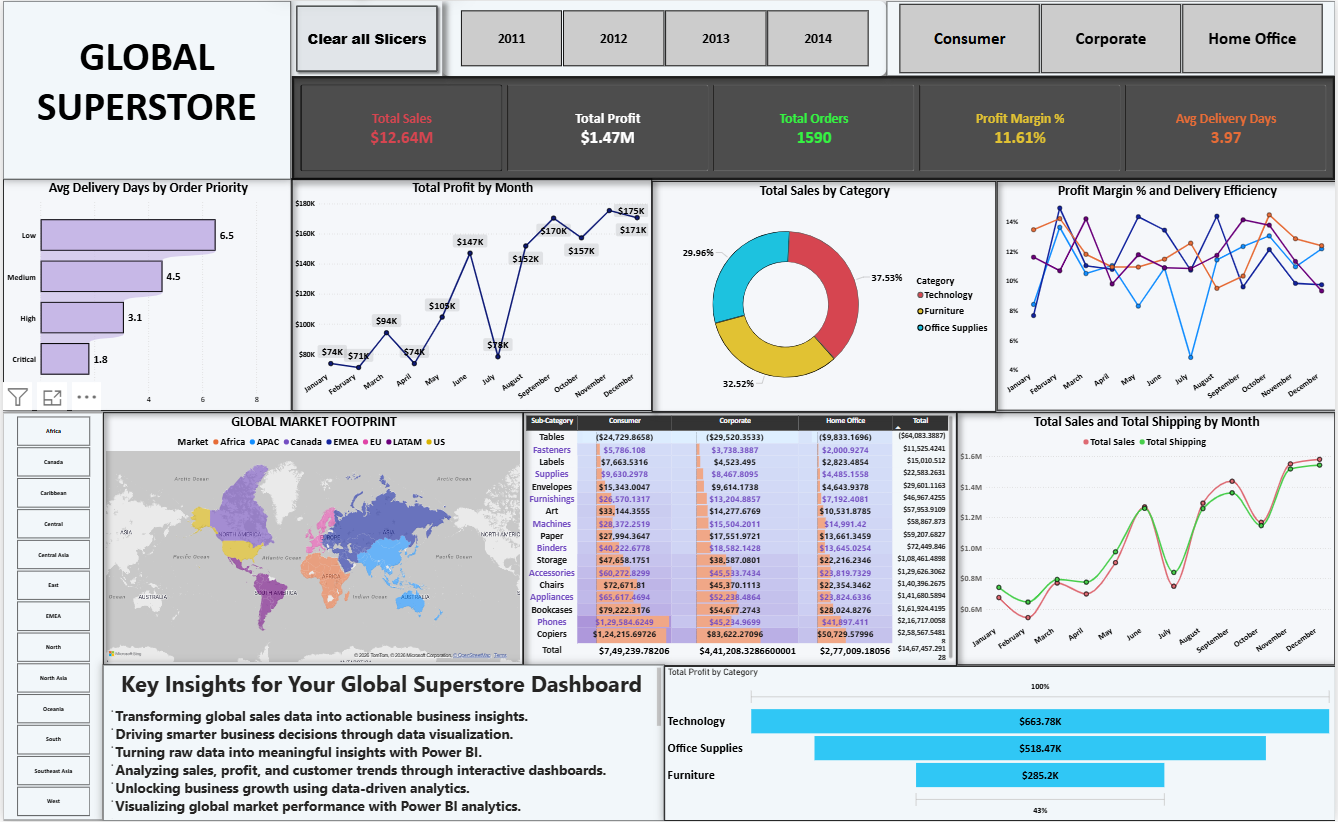

The dashboard page shown, as its layout file describes it:
{"tool":"powerbi","page":{"name":"Page 1","canvas":[2400,1600],"ordinal":0},"visuals":[{"type":"cardVisual","fields":{"Data":["Global_Superstore2 - Global_Superstore2.Total Sales","Global_Superstore2 - Global_Superstore2.Total Profit","Global_Superstore2 - Global_Superstore2.Total Orders","Global_Superstore2 - Global_Superstore2.Profit Margin %","Global_Superstore2 - Global_Superstore2.Avg Delivery Days"]},"box":[438.6,185.7,1961.4,192.9],"z":0},{"type":"slicer","fields":{"Values":["Global_Superstore2 - Global_Superstore2.Order Date.Variation.Date Hierarchy.Year"]},"box":[444,0,1956,186],"z":1000},{"type":"donutChart","fields":{"Category":["Global_Superstore2 - Global_Superstore2.Category"],"Y":["Global_Superstore2 - Global_Superstore2.Total Sales"]},"box":[436.2,378.7,678.7,502.1],"z":2000},{"type":"lineChart","fields":{"Category":["Global_Superstore2 - Global_Superstore2.Order Date.Variation.Date Hierarchy.Month"],"Y":["Global_Superstore2 - Global_Superstore2.Total Sales"],"Series":["Global_Superstore2 - Global_Superstore2.Order Date.Variation.Date Hierarchy.Year"]},"box":[438,886,670,502],"z":3000},{"type":"pivotTable","fields":{"Rows":["Global_Superstore2 - Global_Superstore2.Order Date.Variation.Date Hierarchy.Month"],"Columns":["Global_Superstore2 - Global_Superstore2.Category"],"Values":["Global_Superstore2 - Global_Superstore2.Total Sales"]},"box":[1781.4,380,618.6,501.4],"z":4000},{"type":"lineChart","fields":{"Y2":["Global_Superstore2 - Global_Superstore2.Total Profit"],"Y":["Global_Superstore2 - Global_Superstore2.Total Sales"],"Category":["Global_Superstore2 - Global_Superstore2.Order Date.Variation.Date Hierarchy.Month"]},"box":[1112,379.2,670,502.5],"z":5000},{"type":"funnel","fields":{"Category":["Global_Superstore2 - Global_Superstore2.Segment"],"Y":["Count(Global_Superstore2 - Global_Superstore2.Order ID)"]},"box":[1108,886,670,502],"z":6000},{"type":"barChart","fields":{"Category":["Global_Superstore2 - Global_Superstore2.Order Priority"],"Y":["Global_Superstore2 - Global_Superstore2.Avg Delivery Days"]},"box":[1782,886,618,502],"z":7000},{"type":"slicer","fields":{"Values":["Global_Superstore2 - Global_Superstore2.Region"]},"box":[6.4,183,429.8,1202.1],"z":8000},{"type":"actionButton","box":[4.3,1385.1,434,214.9],"z":10000},{"type":"textbox","box":[5,0,440,185],"z":10001},{"type":"slicer","fields":{"Values":["Global_Superstore2 - Global_Superstore2.Ship Mode"]},"box":[438.3,1387.2,1961.7,212.8],"z":10002}]}

Visuals, with their boxes on the page's 2400x1600 design canvas (x1, y1, x2, y2). These are canvas units, not pixel positions in the 1338x822 screenshot, which may show the page scaled, cropped or inside an application window:
cardVisual - Global_Superstore2 - Global_Superstore2.Total Sales x Global_Superstore2 - Global_Superstore2.Total Profit: l=439, t=186, r=2400, b=379
slicer - Global_Superstore2 - Global_Superstore2.Order Date.Variation.Date Hierarchy.Year: l=444, t=0, r=2400, b=186
donutChart - Global_Superstore2 - Global_Superstore2.Category x Global_Superstore2 - Global_Superstore2.Total Sales: l=436, t=379, r=1115, b=881
lineChart - Global_Superstore2 - Global_Superstore2.Order Date.Variation.Date Hierarchy.Month x Global_Superstore2 - Global_Superstore2.Total Sales: l=438, t=886, r=1108, b=1388
pivotTable - Global_Superstore2 - Global_Superstore2.Order Date.Variation.Date Hierarchy.Month x Global_Superstore2 - Global_Superstore2.Category: l=1781, t=380, r=2400, b=881
lineChart - Global_Superstore2 - Global_Superstore2.Total Profit x Global_Superstore2 - Global_Superstore2.Total Sales: l=1112, t=379, r=1782, b=882
funnel - Global_Superstore2 - Global_Superstore2.Segment x Count(Global_Superstore2 - Global_Superstore2.Order ID): l=1108, t=886, r=1778, b=1388
barChart - Global_Superstore2 - Global_Superstore2.Order Priority x Global_Superstore2 - Global_Superstore2.Avg Delivery Days: l=1782, t=886, r=2400, b=1388
slicer - Global_Superstore2 - Global_Superstore2.Region: l=6, t=183, r=436, b=1385
actionButton: l=4, t=1385, r=438, b=1600
textbox: l=5, t=0, r=445, b=185
slicer - Global_Superstore2 - Global_Superstore2.Ship Mode: l=438, t=1387, r=2400, b=1600
